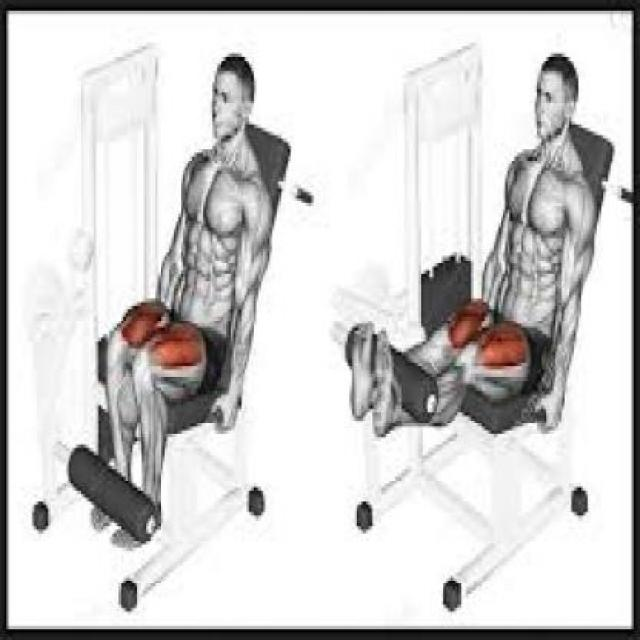leg extension: (330, 31, 636, 620), (19, 32, 318, 616)
